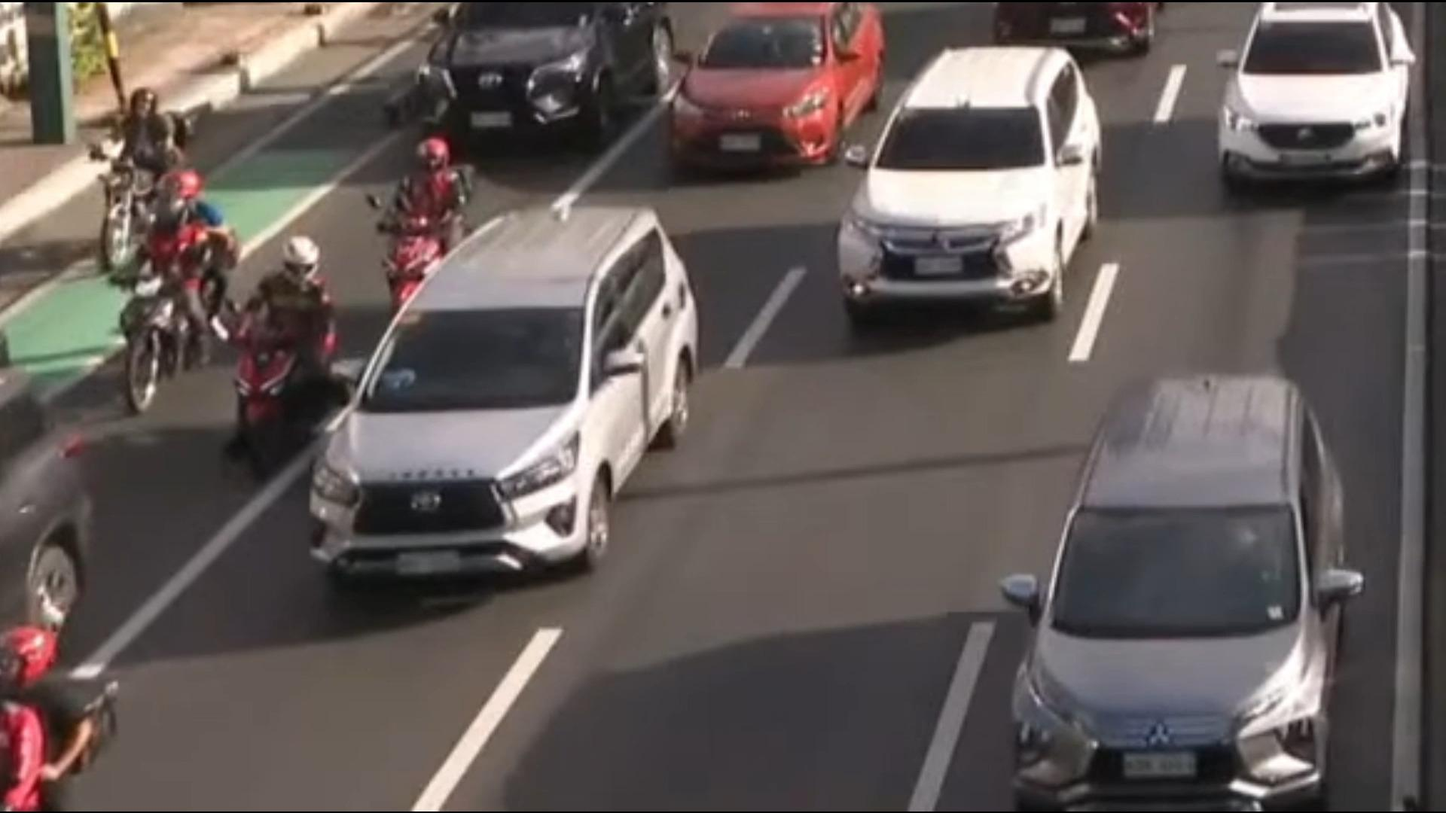Motorcycle: (228, 241, 341, 478), (113, 181, 230, 406), (0, 629, 119, 813), (371, 134, 474, 320), (96, 85, 192, 273)
SUV: (1005, 375, 1354, 813), (314, 213, 689, 589), (838, 47, 1101, 314), (420, 0, 667, 145), (1224, 0, 1406, 175)
Sedan: (672, 0, 887, 162)
